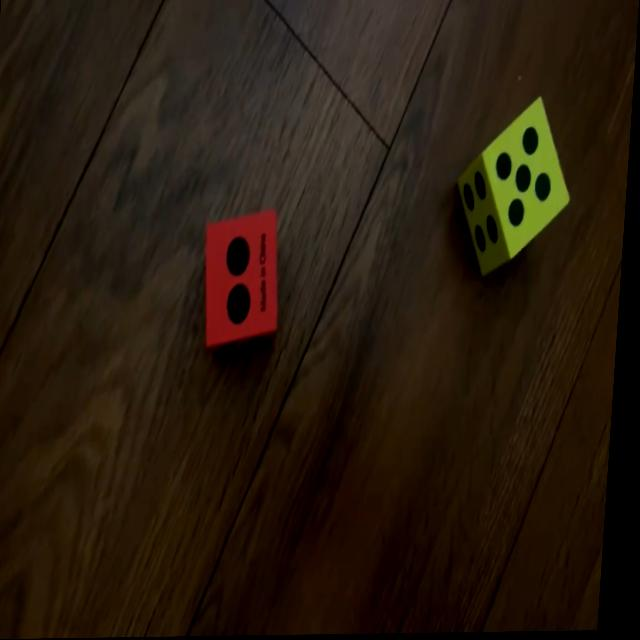red_block: (201, 207, 287, 353)
